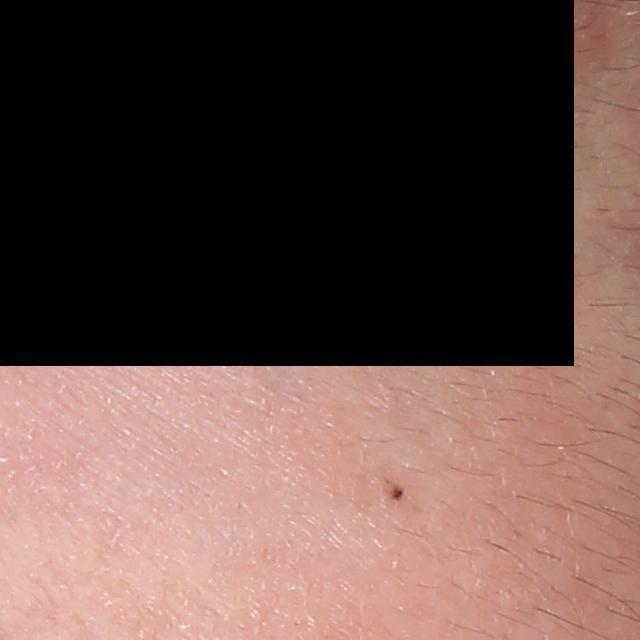nevus: (390, 481, 408, 505)
